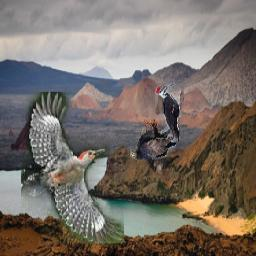Crow: (130, 121, 176, 161)
Woodpecker: (22, 92, 125, 243), (156, 84, 185, 142)
